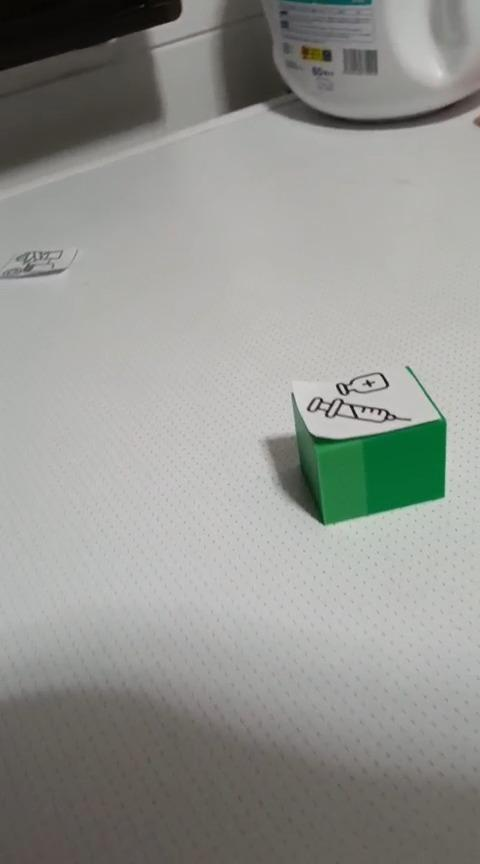antiseptic cream: (288, 362, 447, 526)
